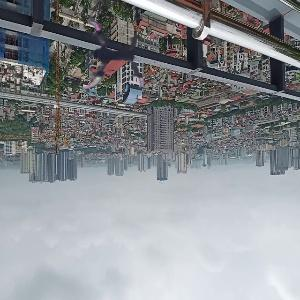drone: (68, 17, 148, 97)
